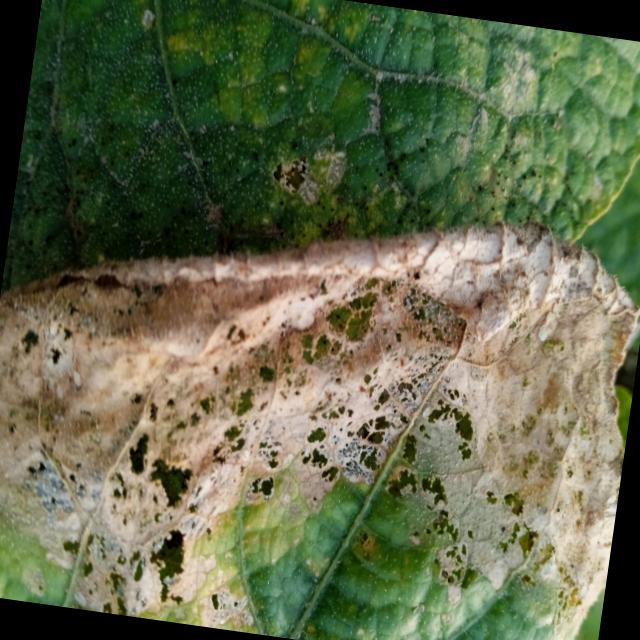cucumber_gummy: (0, 141, 640, 640)
